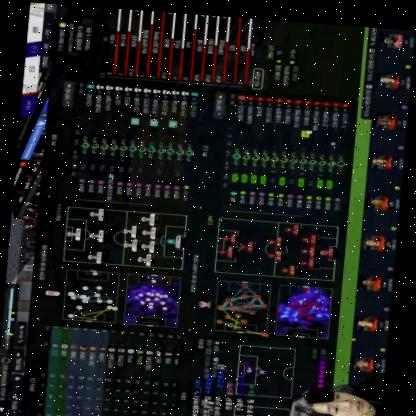streamer: (297, 362, 392, 416)
